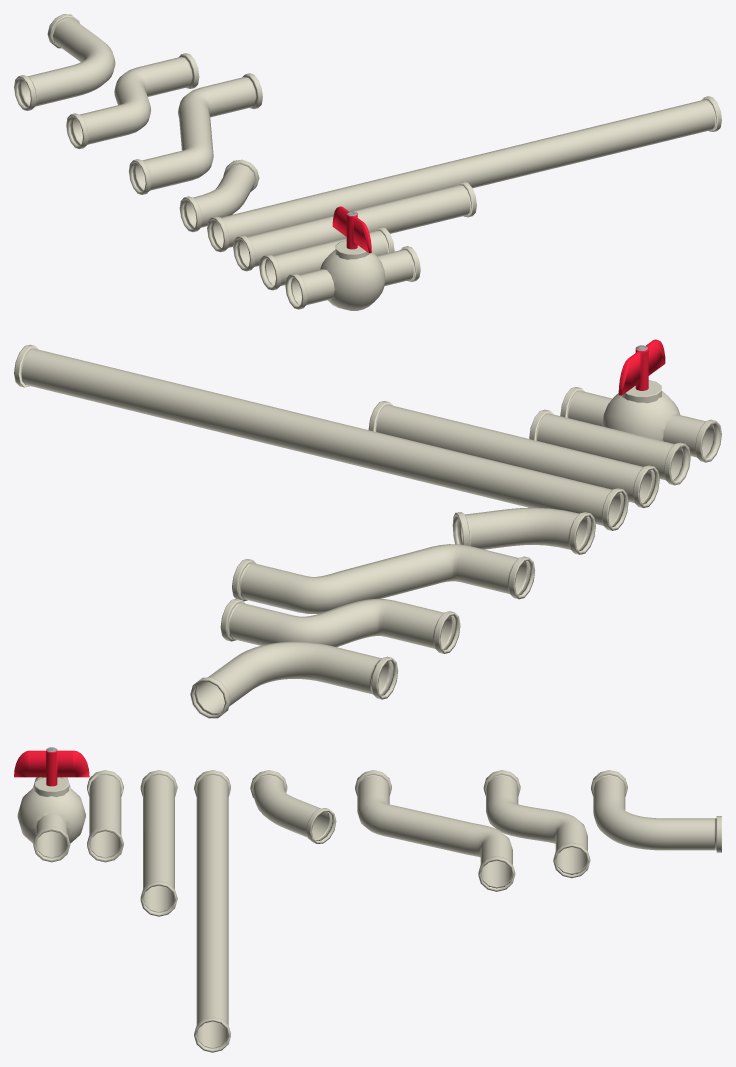
The model's file is Pipes.fbx.
3 renders of one model, top to bottom at view 1: azimuth 30°, elevation 25°; view 2: azimuth 150°, elevation 25°; view 3: azimuth 270°, elevation 25°, orthographic. The views are drawn at different scales.
Parts seen in each view (by area): view 1: StraightLong, Straight, SCurveLong, PressurePipe, SCurve, 90degree, 45degree, StraightShort, Handle; view 2: StraightLong, SCurveLong, Straight, SCurve, 90degree, PressurePipe, 45degree, StraightShort, Handle; view 3: StraightLong, SCurveLong, 90degree, SCurve, Straight, PressurePipe, 45degree, StraightShort, Handle.
Part boxes in pixels (x1,y1,x2,y2): StraightLong: [207, 96, 721, 252]; Straight: [233, 181, 476, 271]; SCurveLong: [129, 73, 262, 194]; PressurePipe: [285, 240, 420, 310]; SCurve: [66, 53, 199, 149]; 90degree: [14, 14, 115, 110]; 45degree: [179, 159, 259, 232]; StraightShort: [259, 227, 394, 290]; Handle: [332, 206, 371, 253]; StraightLong: [14, 344, 628, 530]; SCurveLong: [232, 544, 535, 613]; Straight: [368, 401, 659, 507]; SCurve: [220, 598, 460, 653]; 90degree: [190, 641, 397, 718]; PressurePipe: [560, 380, 721, 462]; 45degree: [452, 507, 595, 554]; StraightShort: [529, 409, 690, 485]; Handle: [618, 339, 665, 395]; StraightLong: [194, 770, 230, 1052]; SCurveLong: [355, 770, 515, 891]; 90degree: [591, 770, 721, 852]; SCurve: [483, 770, 590, 878]; Straight: [140, 770, 177, 916]; PressurePipe: [17, 777, 85, 862]; 45degree: [250, 770, 336, 843]; StraightShort: [87, 770, 123, 862]; Handle: [14, 747, 89, 786].
Bounding box in the file's own units: 1100 × 204 × 1320.
